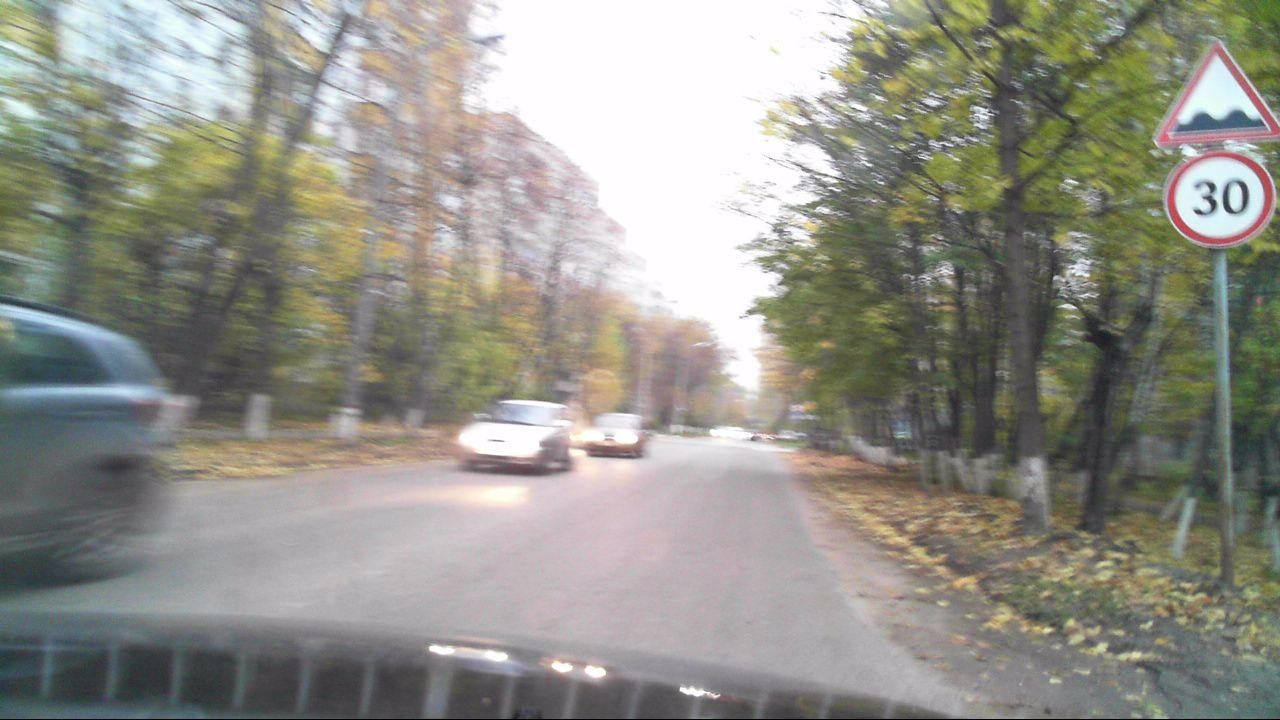road_sign: (1155, 39, 1280, 141), (1166, 150, 1272, 246)
